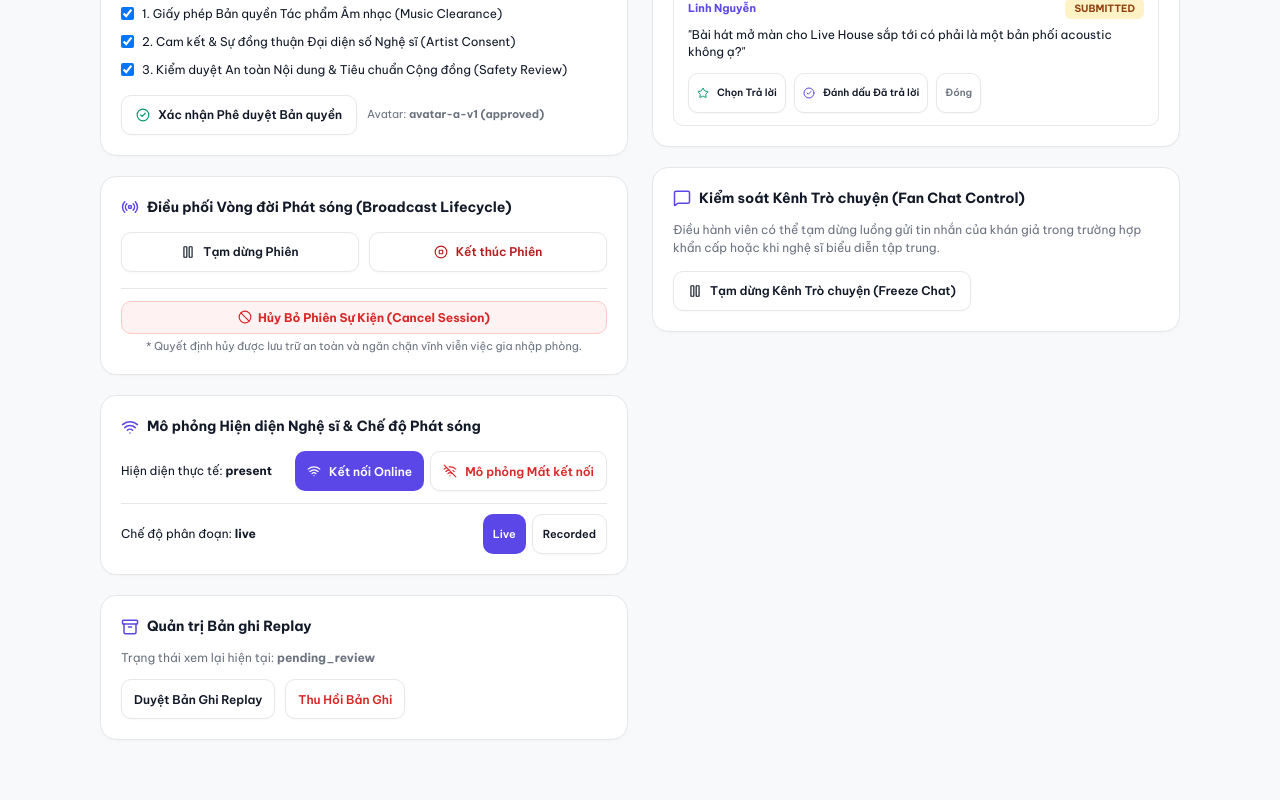
Test: T12 Acceptance: Operator Session Console & Orchestration › 2. Operator Console UI & Controls › operator can switch session segment mode and toggle artist presence
The width and height of the screenshot is (1280, 800).
(page scrolled)
Note: Switch to recorded
Step 1. Click the button with test id "segment-mode-recorded" → (569, 534), box [532, 514, 607, 554]
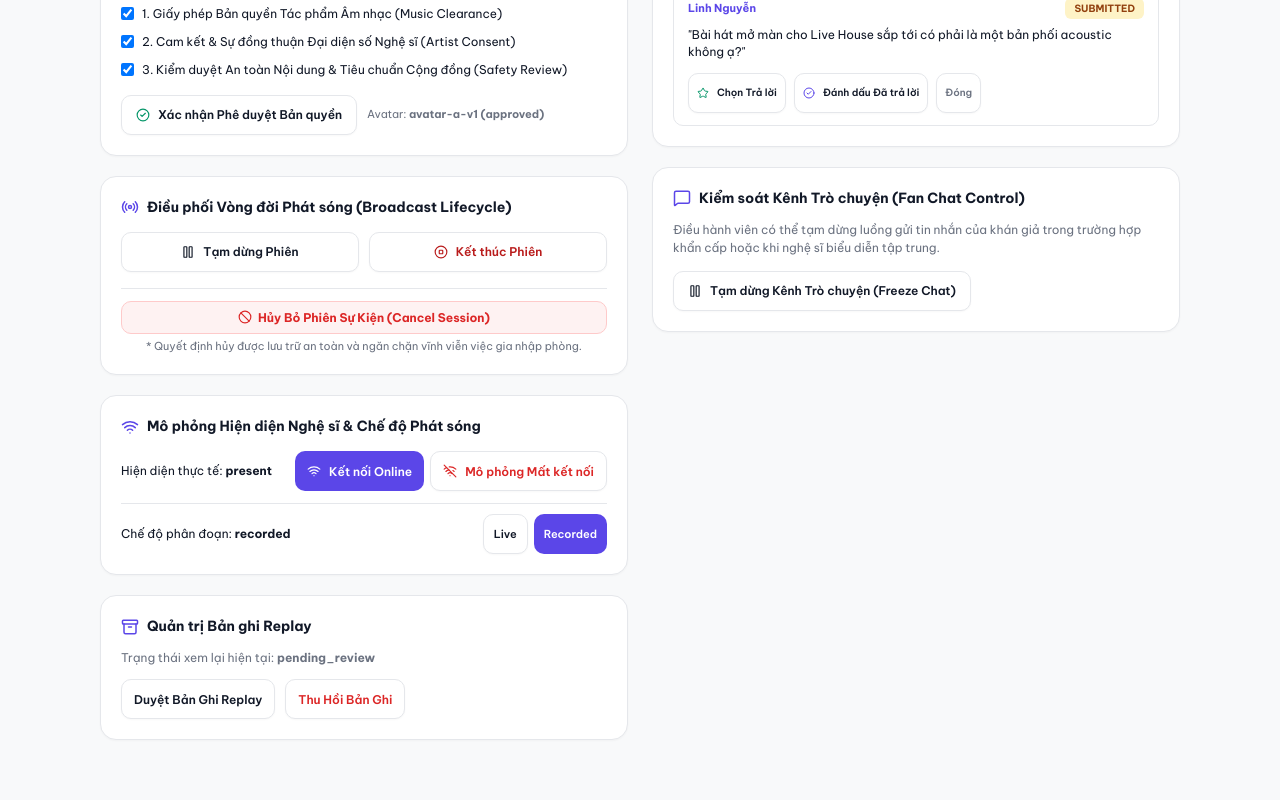
Note: Toggle disconnect
Step 2. Click the button with test id "presence-toggle-disconnected" → (519, 471), box [430, 451, 607, 491]
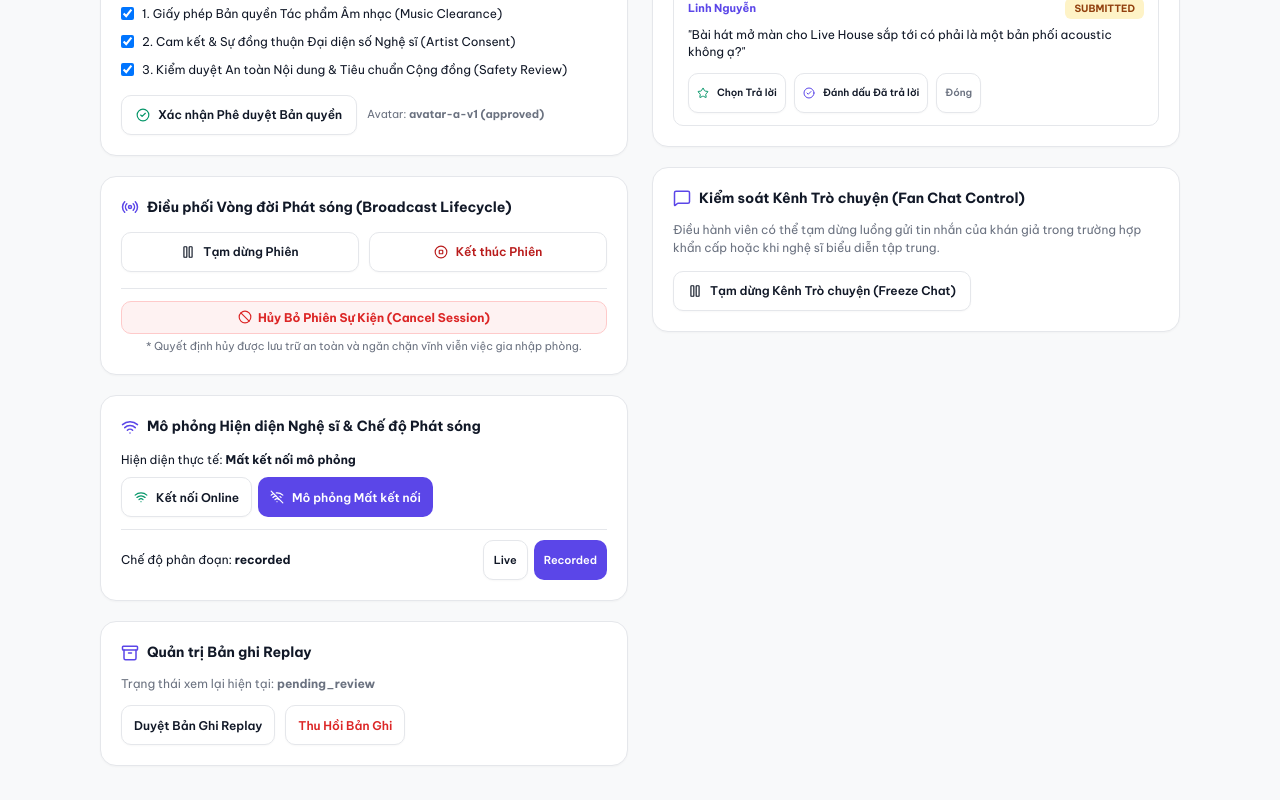
Result: the text "Mất kết nối mô phỏng" is shown at [226, 452, 356, 467]
